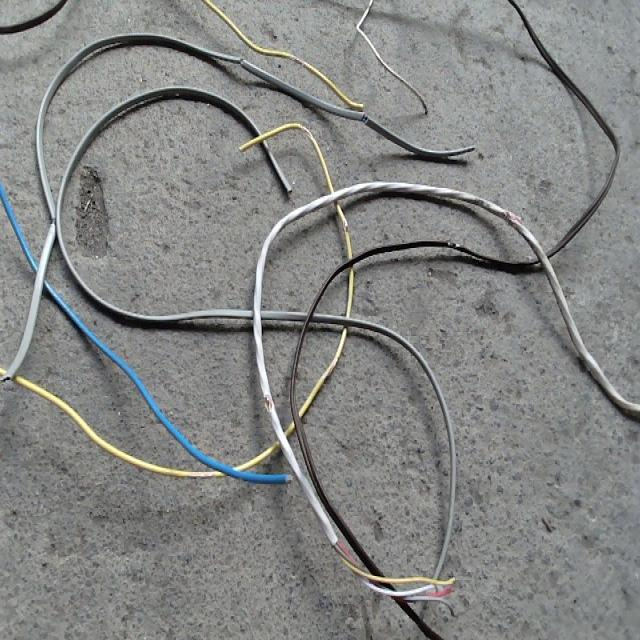-: (504, 209, 523, 228), (263, 390, 274, 410), (300, 124, 313, 136), (292, 55, 304, 65), (360, 111, 368, 124), (342, 216, 348, 232)
